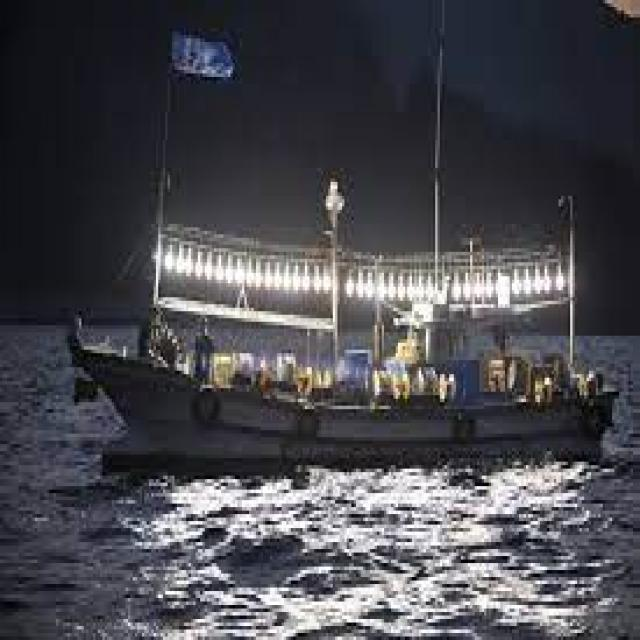Ship: (64, 172, 625, 473)
